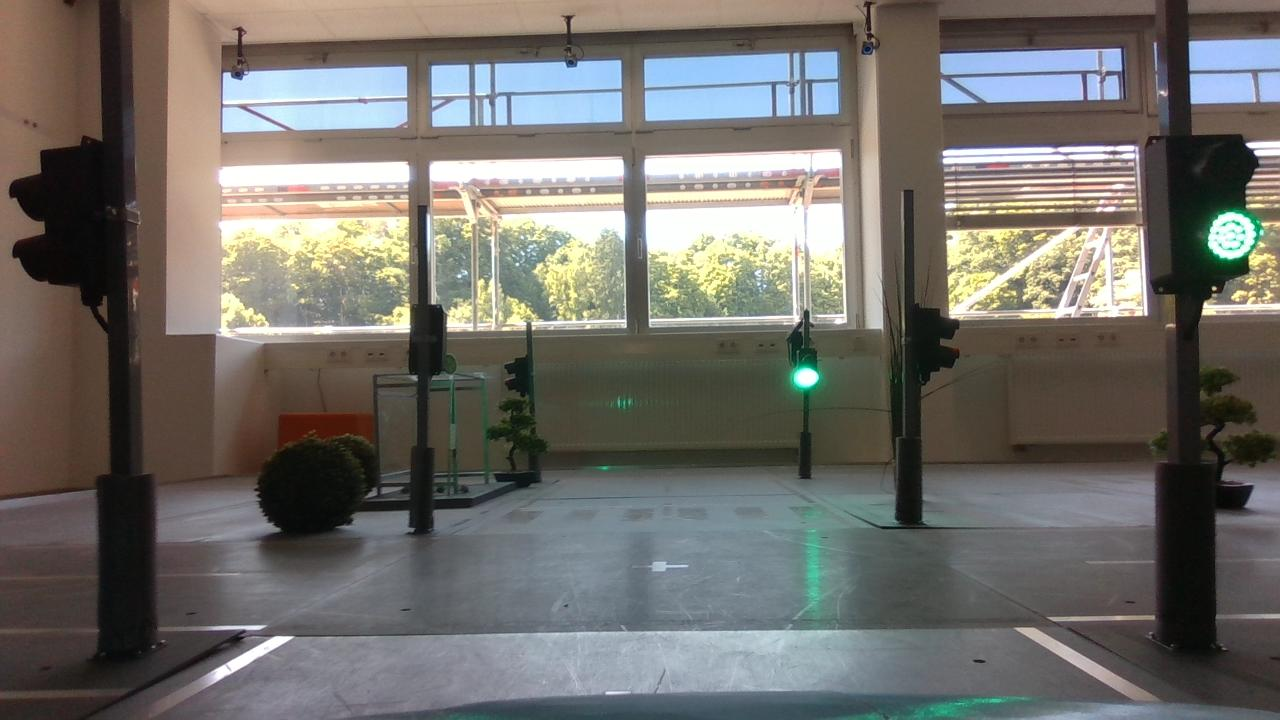traffic_light_green: (1126, 126, 1269, 307)
